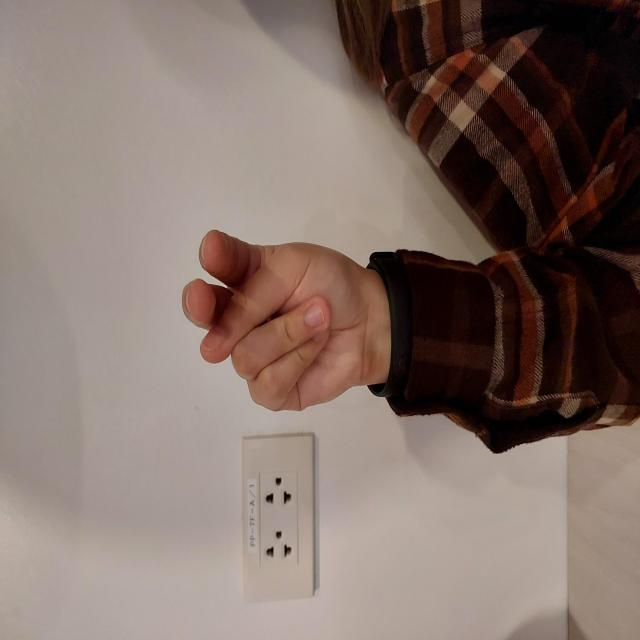N: (225, 177, 414, 378)
